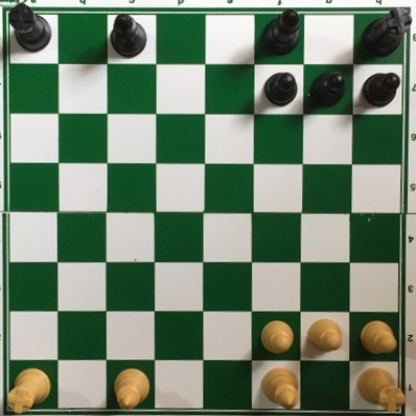black-bishop: (261, 9, 301, 58), (109, 15, 148, 59)
black-pawn: (309, 68, 347, 109), (359, 69, 401, 106), (262, 69, 299, 107)
black-rook: (361, 4, 412, 57), (5, 2, 52, 52)
white-bishop: (114, 365, 152, 416), (260, 366, 301, 411)
white-pawn: (359, 320, 397, 353), (307, 318, 343, 352), (260, 319, 293, 354)
white-rook: (3, 366, 53, 416), (356, 365, 405, 414)
